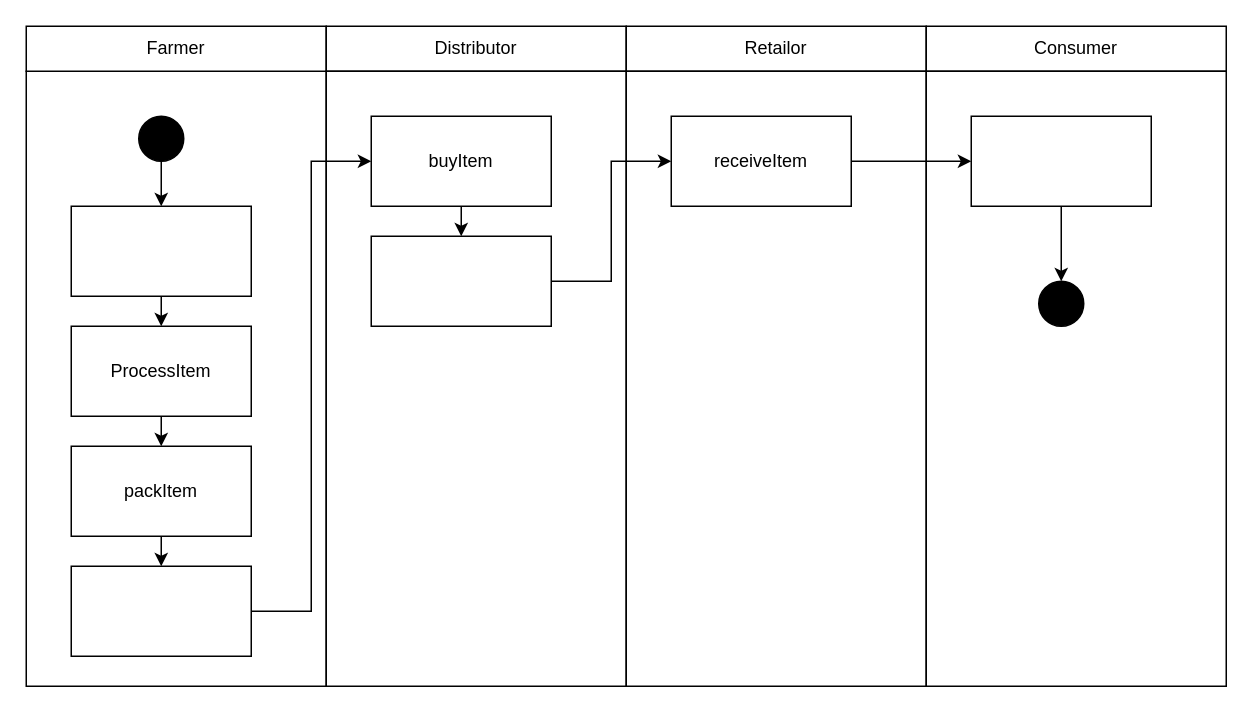
Image size: 1253x713. Some labels were removed from this diagram. Each missing label, with the centre of its shape:
"HarvestItem" belongs at [160,250].
"purchaseItem" belongs at [1060,160].
"sellItem" belongs at [160,610].
"shipItem" belongs at [460,280].
